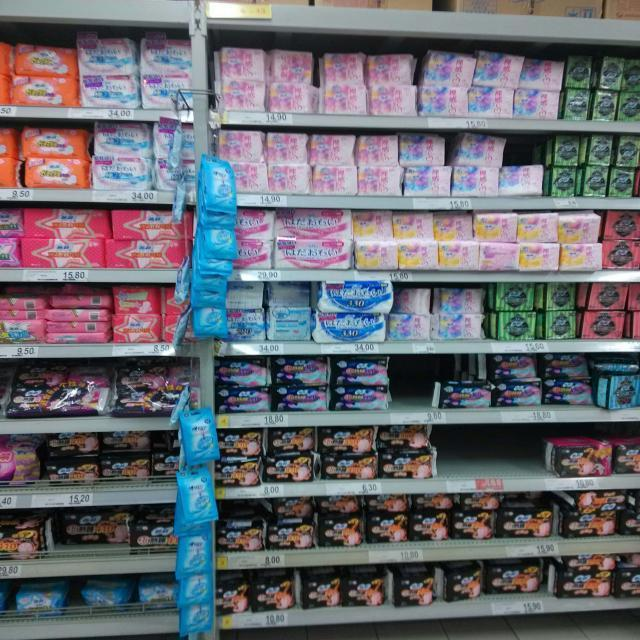empty: (440, 427, 538, 490), (392, 356, 430, 424)
